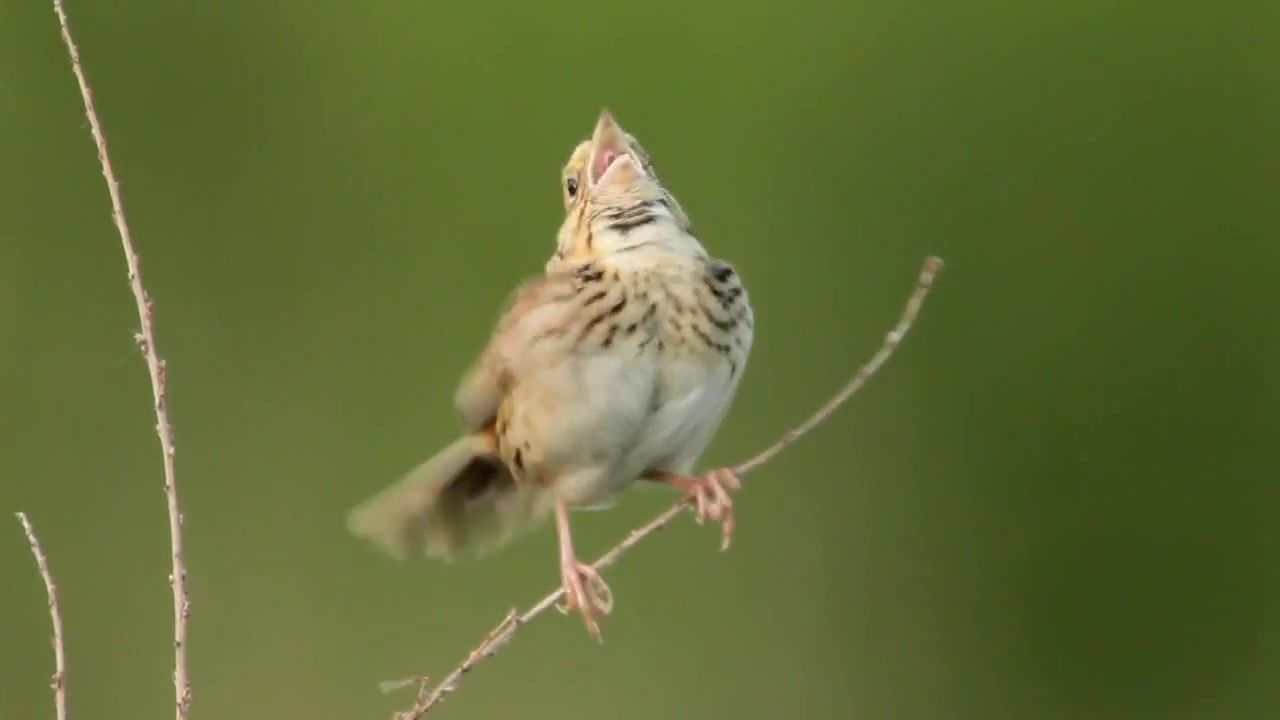bird: (346, 107, 757, 647)
